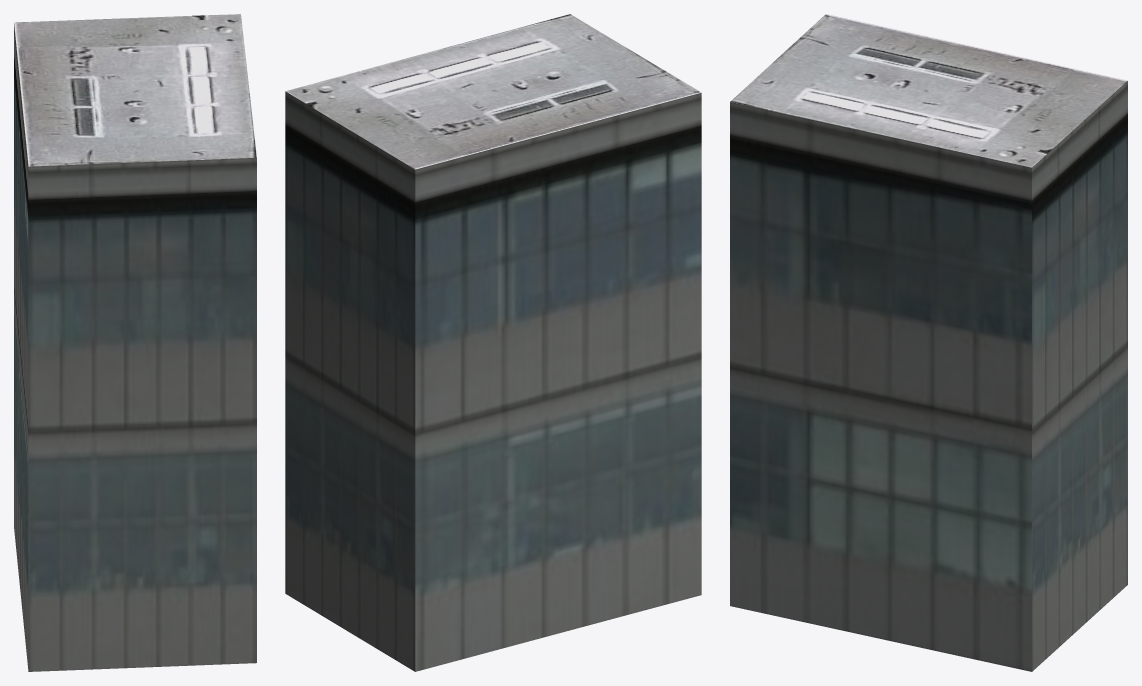
File: EduTex__11.fbx
The picture shows the model from 3 angles, left to right: view 1: azimuth 30°, elevation 25°; view 2: azimuth 150°, elevation 25°; view 3: azimuth 270°, elevation 25°; orthographic projection.
Visible parts, largest first — view 1: CityEngineMaterial_14_m, CityEngineMaterial_10_m; view 2: CityEngineMaterial_14_m, CityEngineMaterial_10_m; view 3: CityEngineMaterial_14_m, CityEngineMaterial_10_m.
Boxes of the visible parts, bbox=[...] form: CityEngineMaterial_14_m: bbox=[14, 24, 256, 671]; CityEngineMaterial_10_m: bbox=[14, 14, 256, 166]; CityEngineMaterial_14_m: bbox=[285, 91, 701, 671]; CityEngineMaterial_10_m: bbox=[285, 14, 701, 169]; CityEngineMaterial_14_m: bbox=[730, 81, 1127, 671]; CityEngineMaterial_10_m: bbox=[730, 14, 1127, 167].
Bounding box in the file's own units: 3.92 × 6 × 4.29.
Materials: 2 (2 with a texture image).
